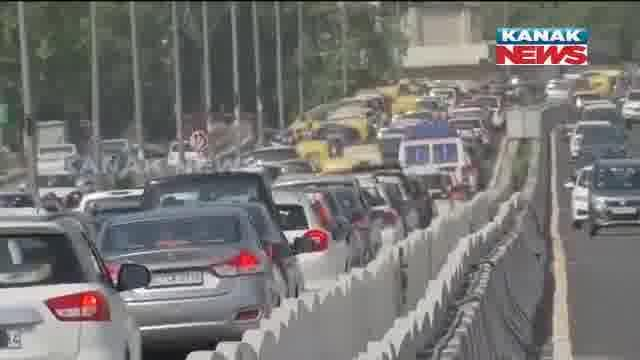AMBULANCE: (398, 121, 476, 183)
